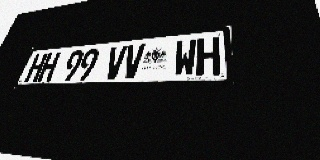9: (76, 48, 100, 80), (61, 50, 85, 81)
H: (196, 36, 220, 76), (37, 52, 61, 82), (24, 53, 48, 82)
V: (103, 45, 128, 79), (121, 44, 145, 79)
W: (173, 39, 197, 77)
